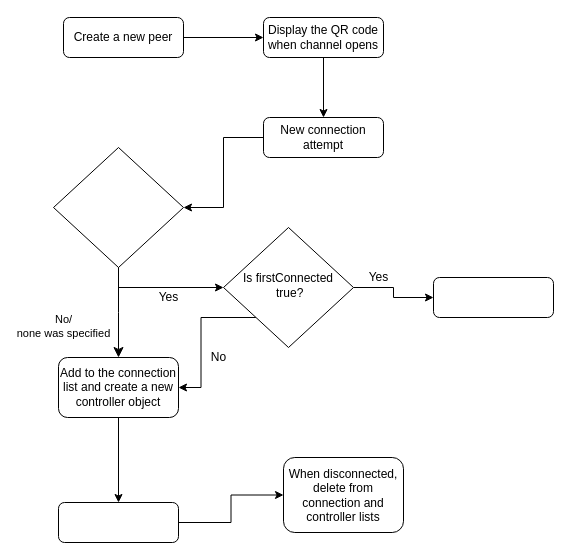
The diagram is 572 pixels wide and 560 high, and some of its shapes have lost their labels. Each missing label, with the centre of its shape:
"Deny the connection" goes at pixel 493 297.
"Does the player ID already exist?" goes at pixel 118 207.
"Process data while connected" goes at pixel 118 522.
